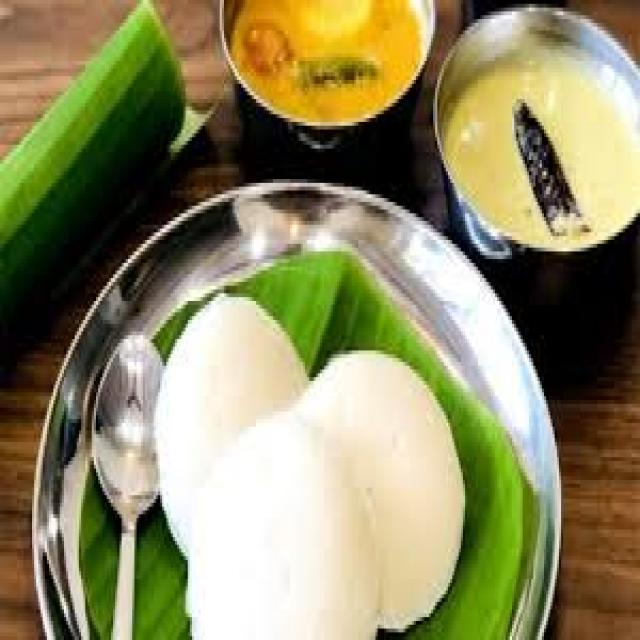IDLI: (301, 350, 463, 629), (192, 404, 378, 636), (158, 293, 307, 556)
